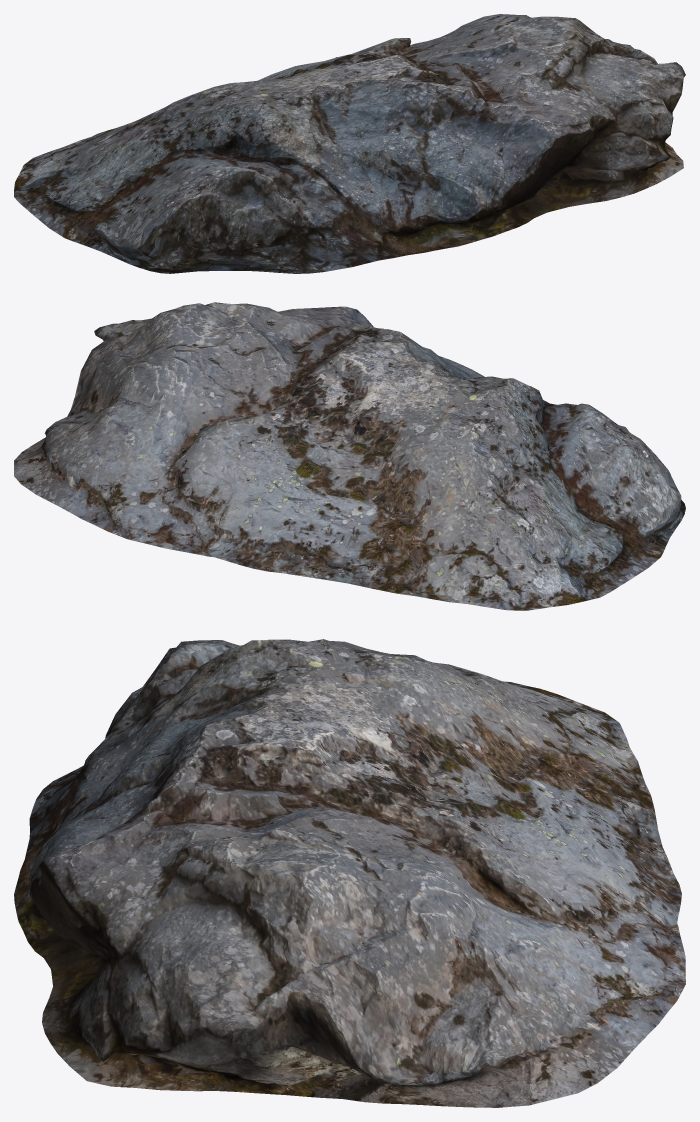
Rendered from rusty-rock-cliff.glb.
3 renders of one model, top to bottom at view 1: azimuth 30°, elevation 25°; view 2: azimuth 150°, elevation 25°; view 3: azimuth 270°, elevation 25°, orthographic. The views are drawn at different scales.
Parts seen in each view (by area): view 1: Rock Cliff Low Poly Photoscan; view 2: Rock Cliff Low Poly Photoscan; view 3: Rock Cliff Low Poly Photoscan.
Boxes of the visible parts, left/top/right/bottom form: Rock Cliff Low Poly Photoscan: left=14, top=14, right=685, bottom=273; Rock Cliff Low Poly Photoscan: left=14, top=302, right=685, bottom=610; Rock Cliff Low Poly Photoscan: left=14, top=639, right=685, bottom=1107.
Bounding box in the file's own units: 8.59 × 1.62 × 5.57.
1 material, 1 textured.
